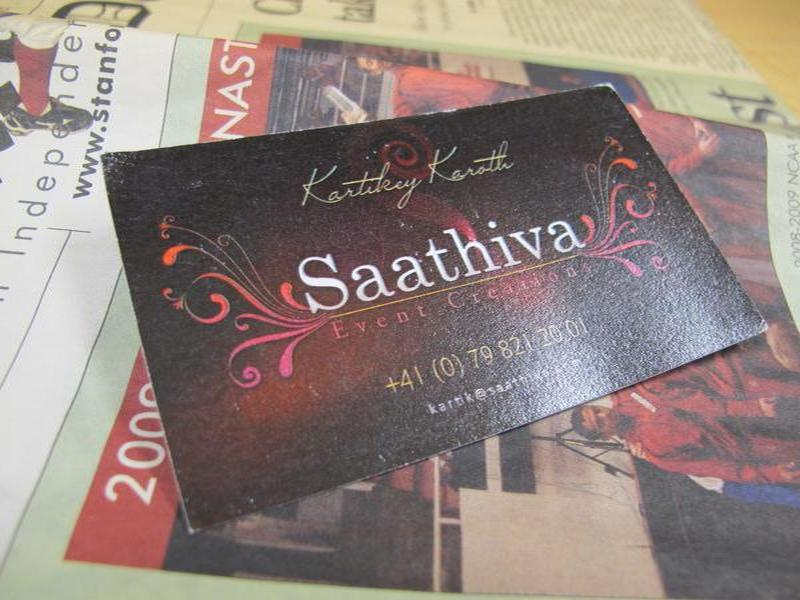card: (98, 86, 758, 537)
